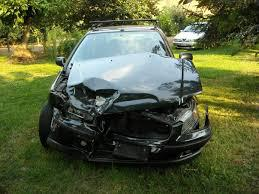bonnet-dent: (65, 53, 176, 99)
front-bumper-dent: (56, 123, 192, 163)
